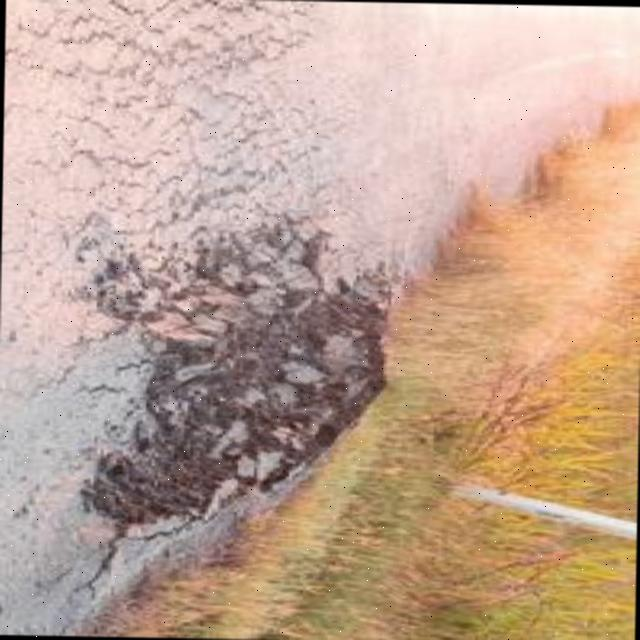road collapse: (17, 100, 434, 591)
